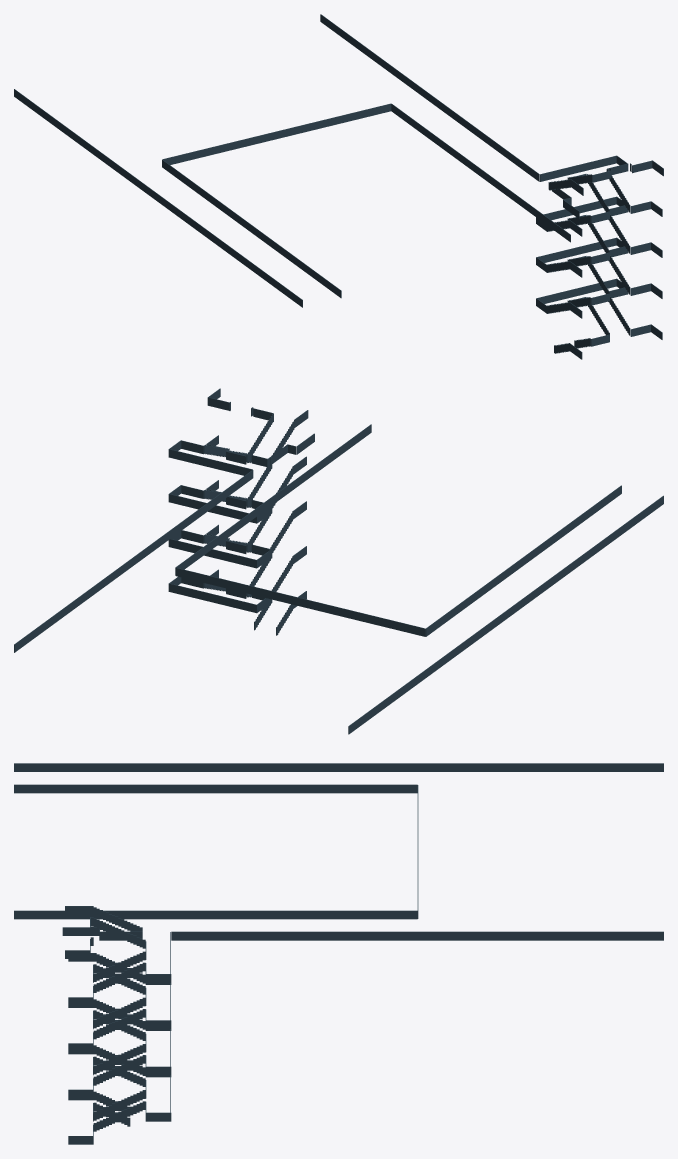
Rendered from v02-00-06-steel.glb.
3 views of the same model, one above another, from view 1: azimuth 30°, elevation 25°; view 2: azimuth 150°, elevation 25°; view 3: azimuth 270°, elevation 25° (orthographic). The views are drawn at different scales.
Visible parts, largest first — view 1: v02-00-06-steel; view 2: v02-00-06-steel; view 3: v02-00-06-steel.
Part boxes in pixels (<box>): v02-00-06-steel: <box>14,14,663,359</box>; v02-00-06-steel: <box>14,388,663,734</box>; v02-00-06-steel: <box>14,763,663,1144</box>.
Size of the model in its own units: 58.79 by 27.33 by 76.5.
